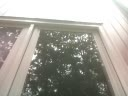window: (0, 31, 58, 96), (63, 48, 88, 63), (71, 84, 96, 96), (121, 84, 128, 96), (120, 58, 128, 68)
